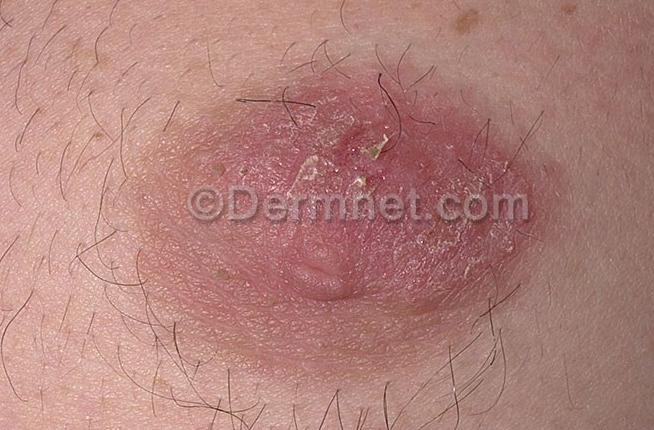Eritema 2: (229, 66, 576, 255)
exudacion 1: (267, 89, 459, 210)
xerosis 1: (236, 78, 559, 253)
